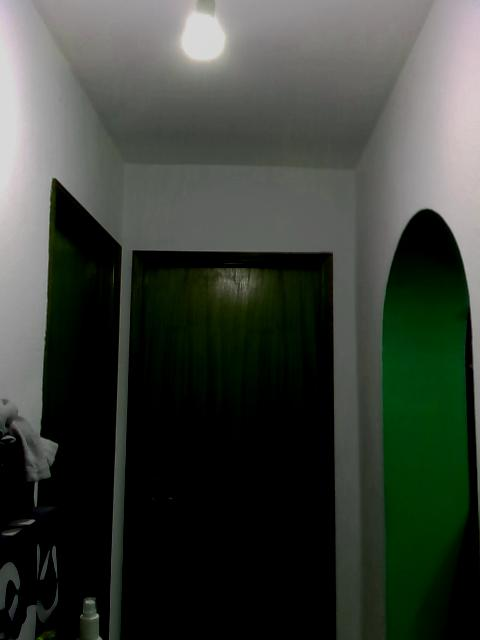closed_door: (121, 250, 338, 639)
